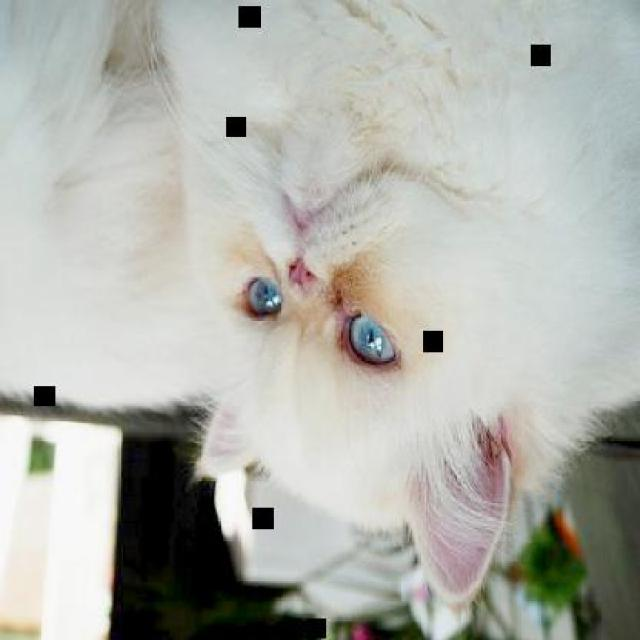cat: (0, 2, 638, 608)
